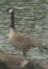goose: (3, 6, 48, 63)
